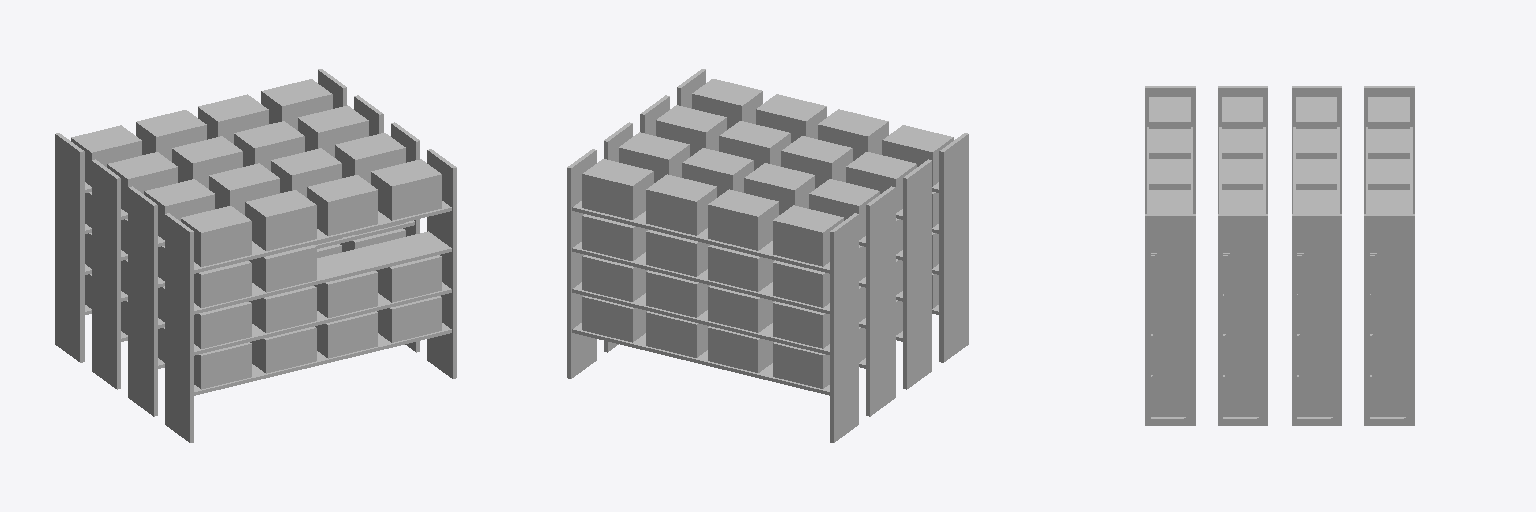
The model's file is stockage.obj.
3 renders of one model, left to right at view 1: azimuth 30°, elevation 25°; view 2: azimuth 150°, elevation 25°; view 3: azimuth 270°, elevation 25°, orthographic.
Parts seen in each view (by area): view 1: Cube.14152_Cube.14185, Cube.14137_Cube.14170, Cube.14136_Cube.14169, Cube.14135_Cube.14168, Cube.14138_Cube.14171, Cube.14139_Cube.14172; view 2: Cube.14137_Cube.14170, Cube.14152_Cube.14185, Cube.14136_Cube.14169, Cube.14135_Cube.14168, Cube.14142_Cube.14175, Cube.14140_Cube.14173, Cube.14141_Cube.14174, Cube.14143_Cube.14176; view 3: Cube.14152_Cube.14185, Cube.14137_Cube.14170.
Boxes of the visible parts, x1,y1,x2,y2 form: Cube.14152_Cube.14185: [55, 69, 456, 442]; Cube.14137_Cube.14170: [71, 79, 441, 266]; Cube.14136_Cube.14169: [85, 228, 441, 348]; Cube.14135_Cube.14168: [85, 274, 441, 389]; Cube.14138_Cube.14171: [249, 245, 316, 292]; Cube.14139_Cube.14172: [194, 261, 251, 307]; Cube.14137_Cube.14170: [582, 79, 953, 266]; Cube.14152_Cube.14185: [567, 69, 968, 442]; Cube.14136_Cube.14169: [582, 232, 938, 348]; Cube.14135_Cube.14168: [582, 273, 938, 388]; Cube.14142_Cube.14175: [708, 245, 774, 291]; Cube.14140_Cube.14173: [582, 214, 648, 260]; Cube.14141_Cube.14174: [646, 230, 709, 276]; Cube.14143_Cube.14176: [773, 260, 829, 307]; Cube.14152_Cube.14185: [1145, 86, 1414, 425]; Cube.14137_Cube.14170: [1149, 97, 1409, 213].
Size of the model in its own units: 3.48 by 2.63 by 3.05.